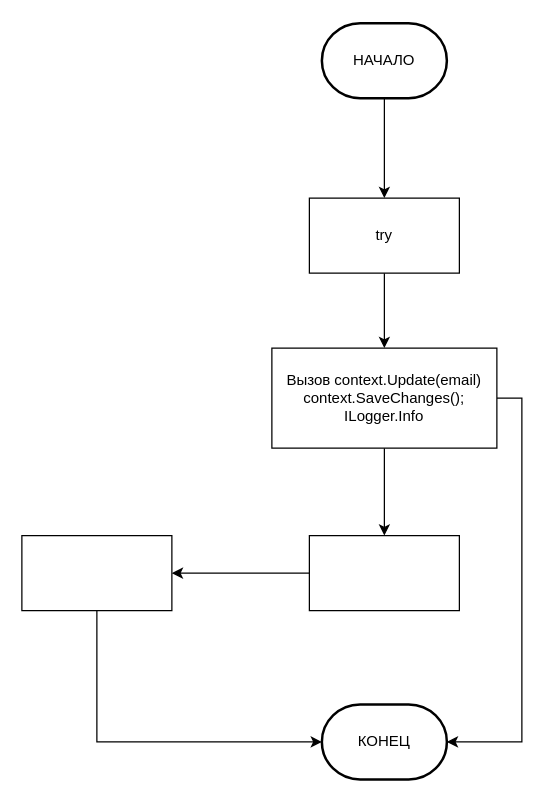
Image size: 554x801. Some labels were removed from this diagram. The centre of each missing label's shape, as x and y in pixels:
catch: [383,572]
ILogger.Error return Exception: [96,572]
